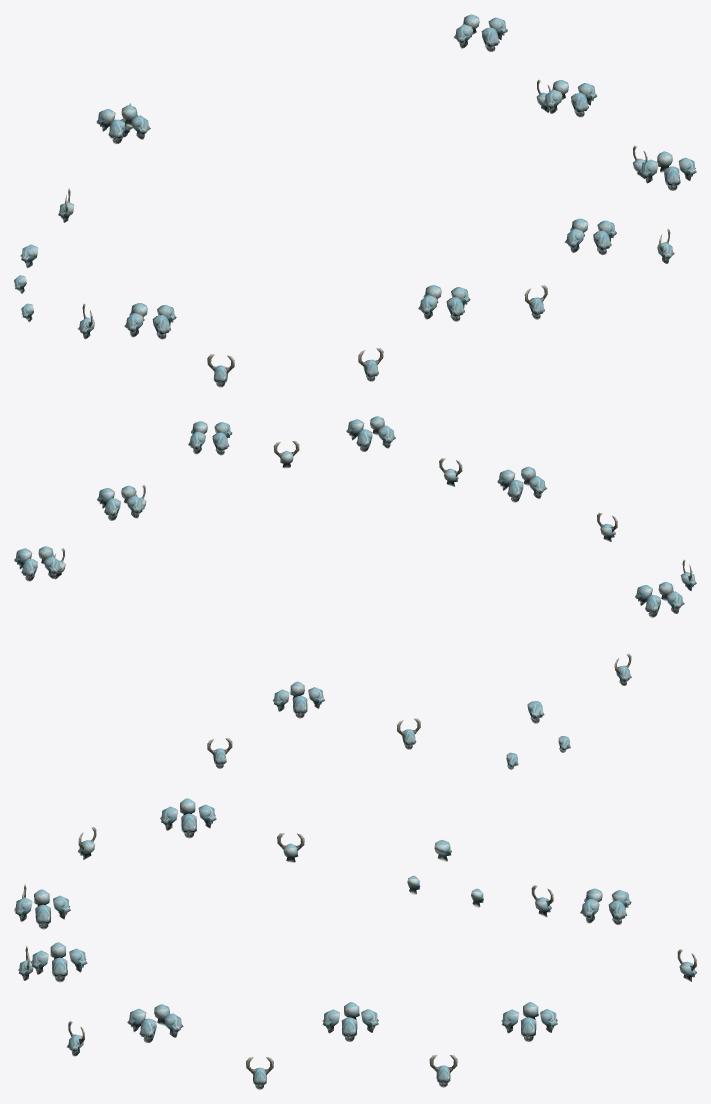
Rendered from nd_scourgewalls_skulls.obj.
The picture shows the model from 3 angles, top to bottom: view 1: azimuth 30°, elevation 25°; view 2: azimuth 150°, elevation 25°; view 3: azimuth 270°, elevation 25°; orthographic projection. The views are drawn at different scales.
Parts seen in each view (by area): view 1: Geoset0, Geoset1; view 2: Geoset0, Geoset1; view 3: Geoset0, Geoset1.
Boxes of the visible parts, <box> form: Geoset0: <box>14,14,696,387</box>; Geoset1: <box>65,79,670,373</box>; Geoset0: <box>14,416,696,769</box>; Geoset1: <box>54,441,692,755</box>; Geoset0: <box>14,798,696,1089</box>; Geoset1: <box>22,827,696,1075</box>.
Size of the model in its own units: 522 by 121 by 551.
Materials: 2 (2 with a texture image).
